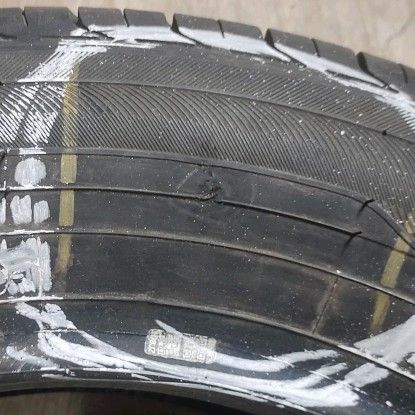cut: (197, 164, 224, 208)
